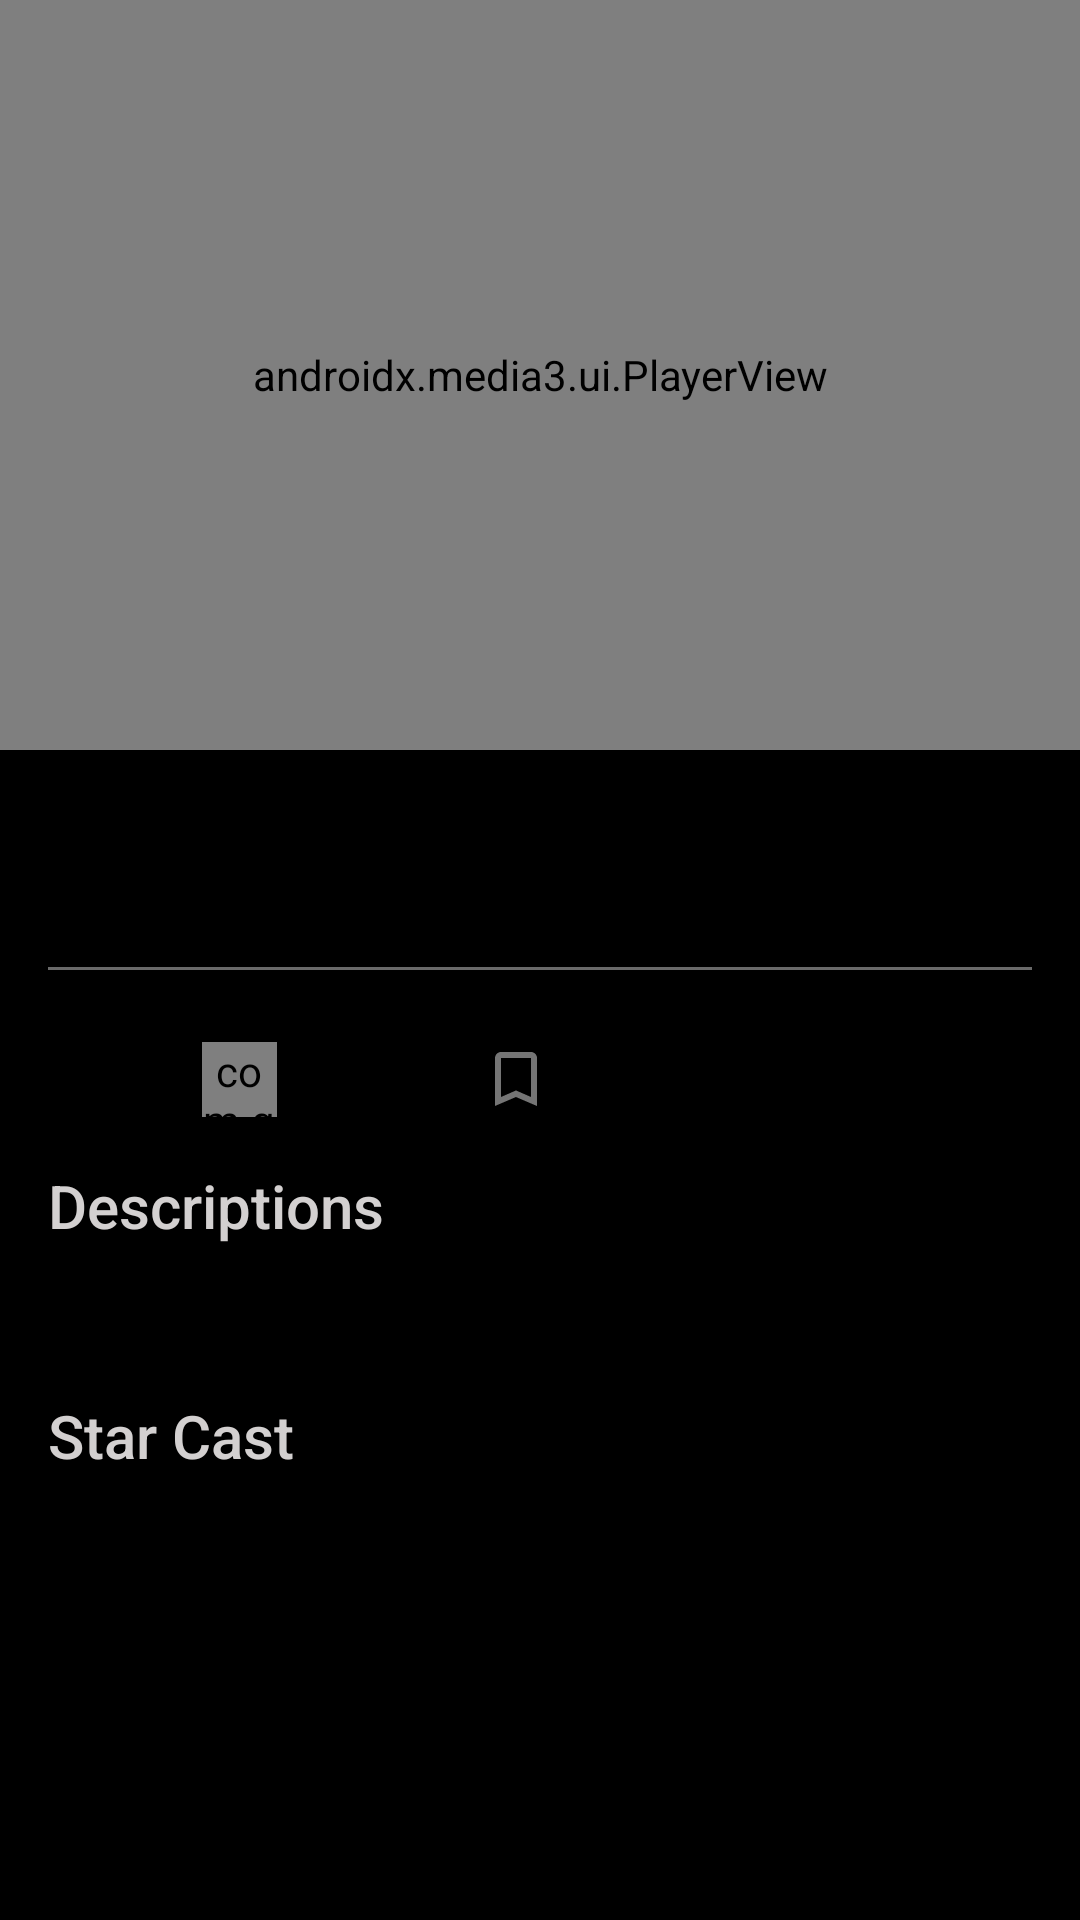

Screen size 1080w x 1920h. Icon name, then its center in pixels as (x=x, y=y):
favorite: (x=516, y=1079)
